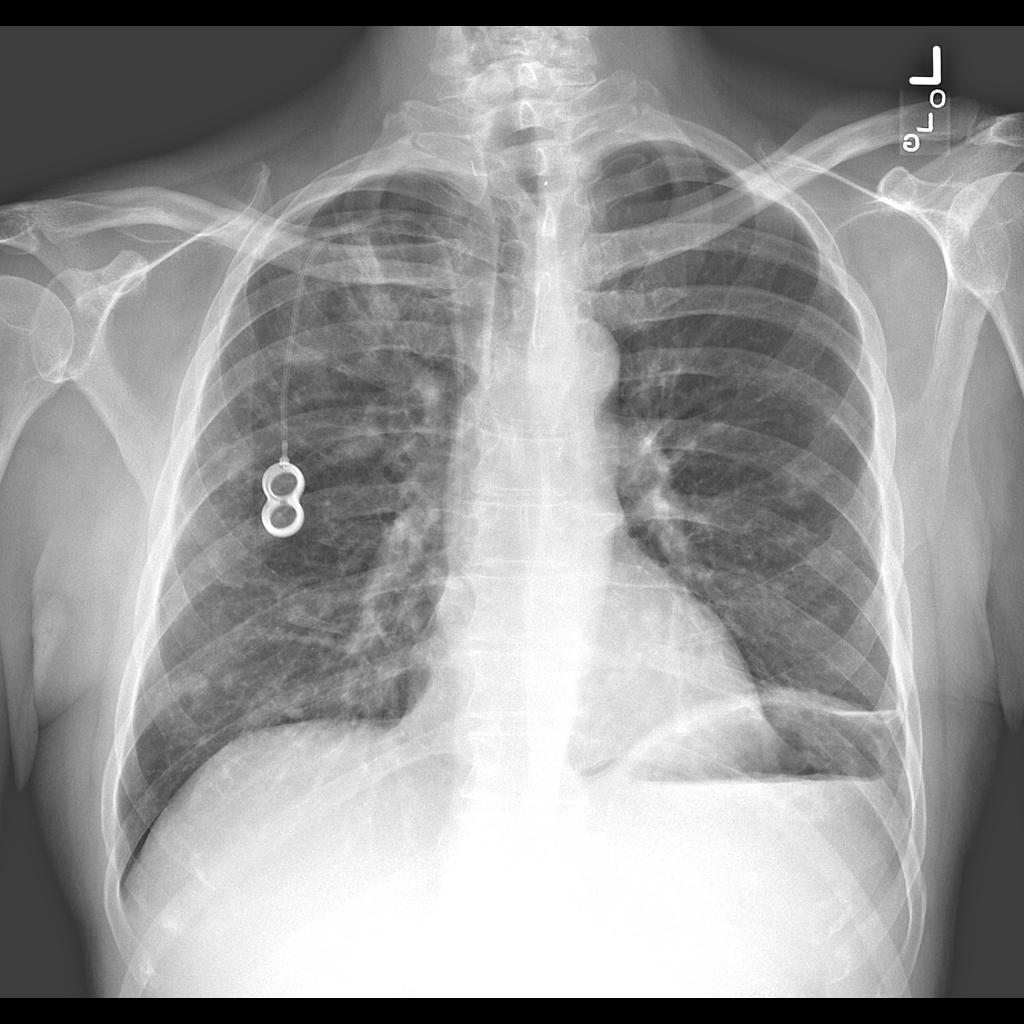Nodule: (339, 416, 385, 464), (184, 669, 221, 704)
